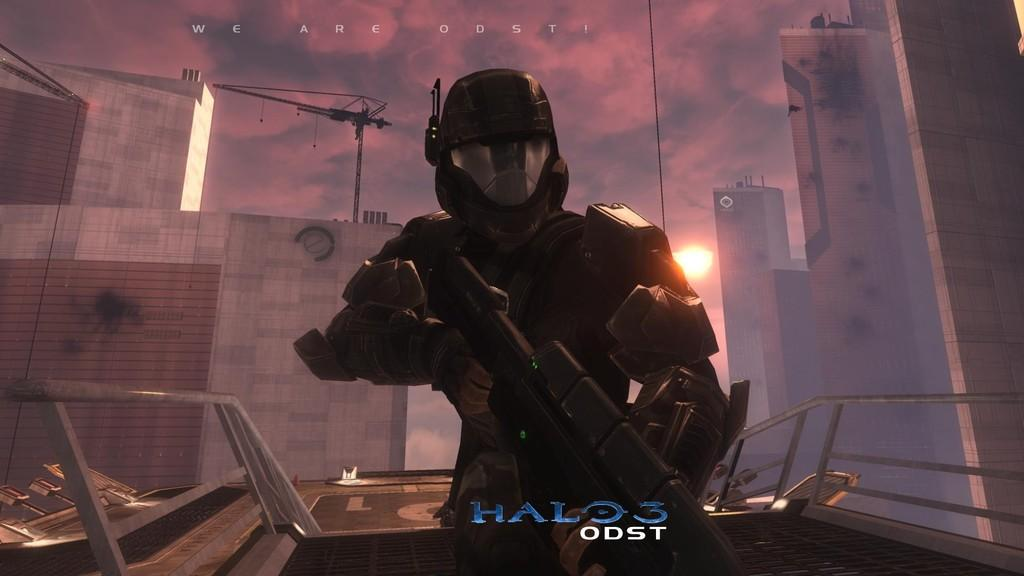helmet: (435, 69, 569, 248)
